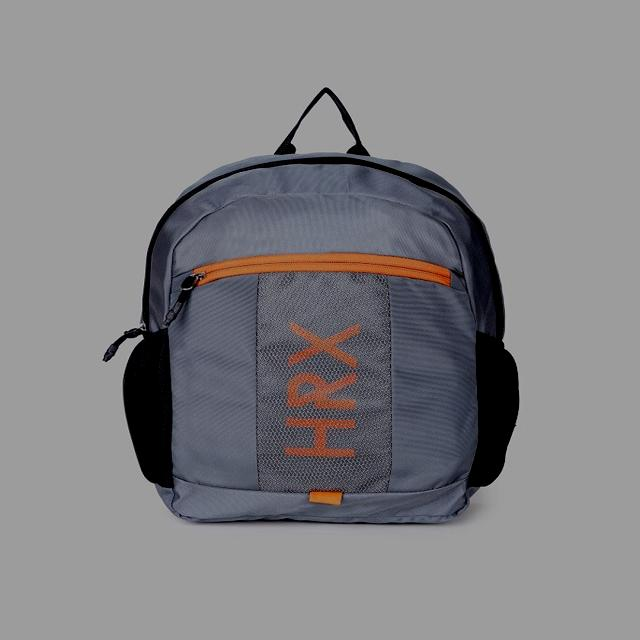backpack: (104, 88, 521, 526)
